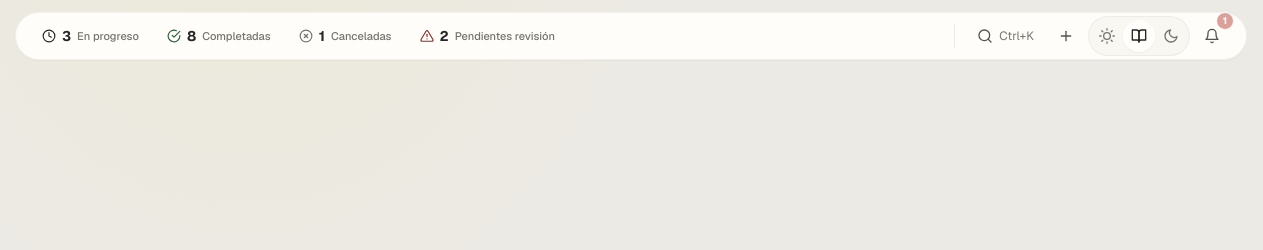
Test: SmartHeaderBar › shows an explicit error state and allows retry when the alert list fails
The image size is (1263, 250).
Click the button named "1 alertas sin reconocer": (1212, 36) [1194, 16, 1230, 56]
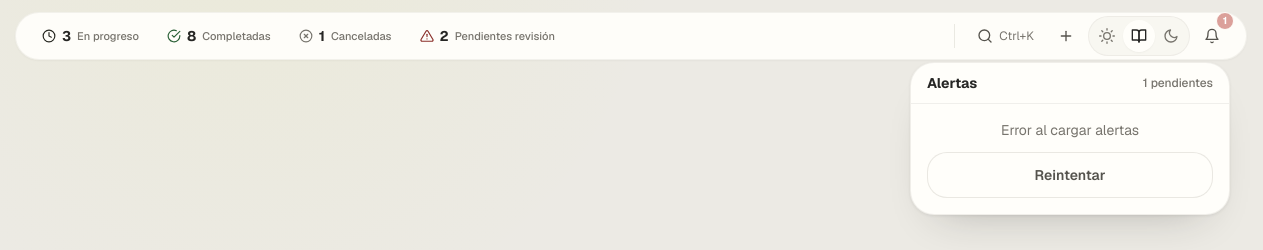
Expected: the text "Error al cargar alertas" is shown, [1001, 121, 1139, 139]
Expected: the button "Reintentar" is shown
Click the button "Reintentar": (1070, 175) [927, 152, 1213, 198]
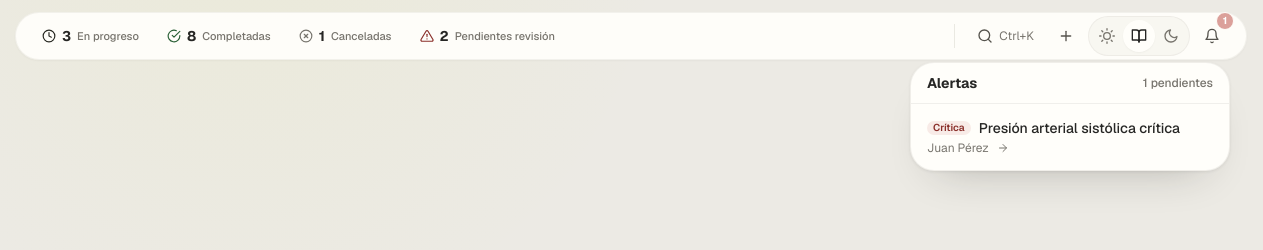
Expected: the text "Presión arterial sistólica crítica" is shown, [979, 118, 1180, 138]
Expected: the text "Juan Pérez" is shown, [927, 140, 989, 156]
